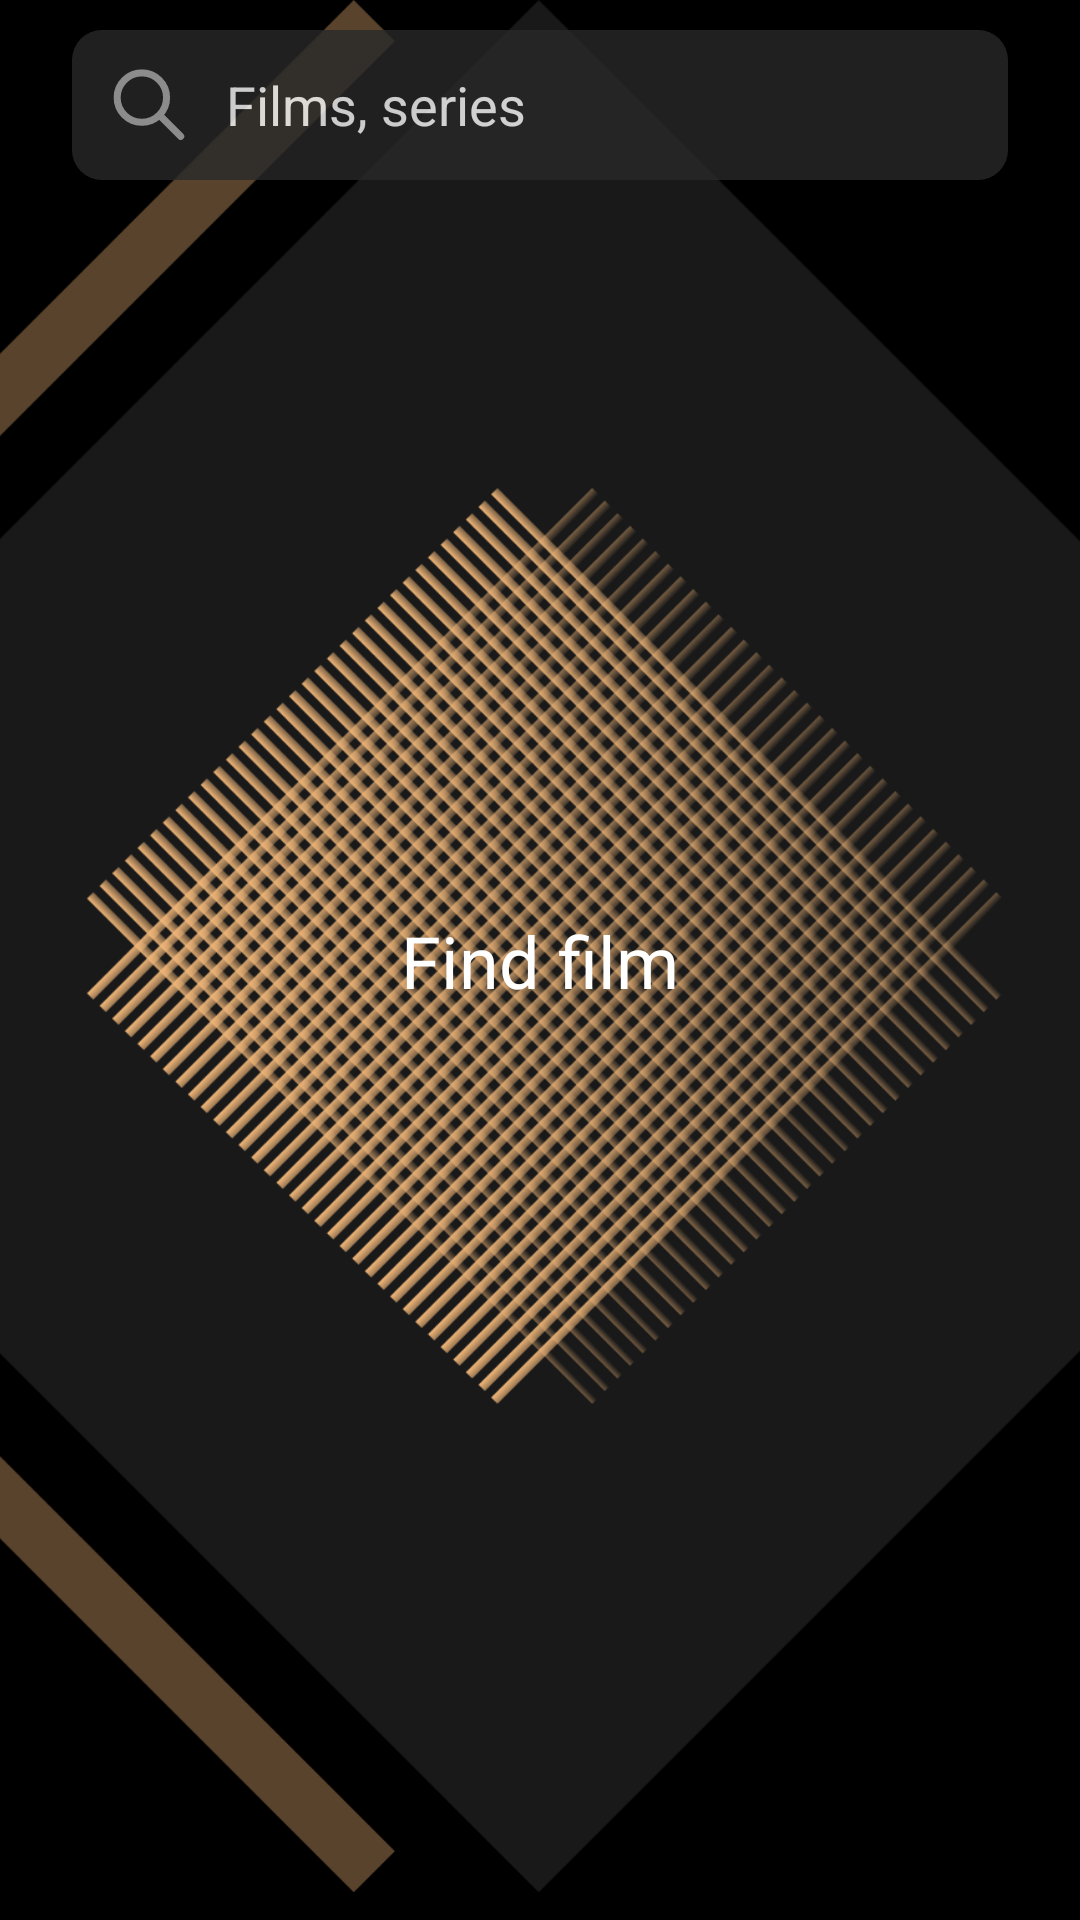

Screen size 1080px×1920px. Icon name, then its center in pixels as (x=x, y=y):
search: (x=149, y=104)
